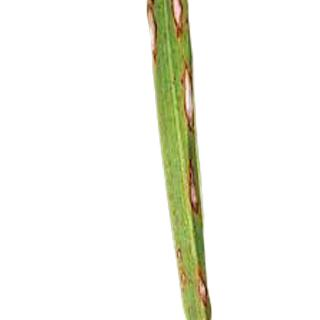Blast: (174, 57, 205, 138), (189, 249, 220, 319), (139, 0, 169, 65), (178, 162, 208, 220), (168, 0, 192, 40)
